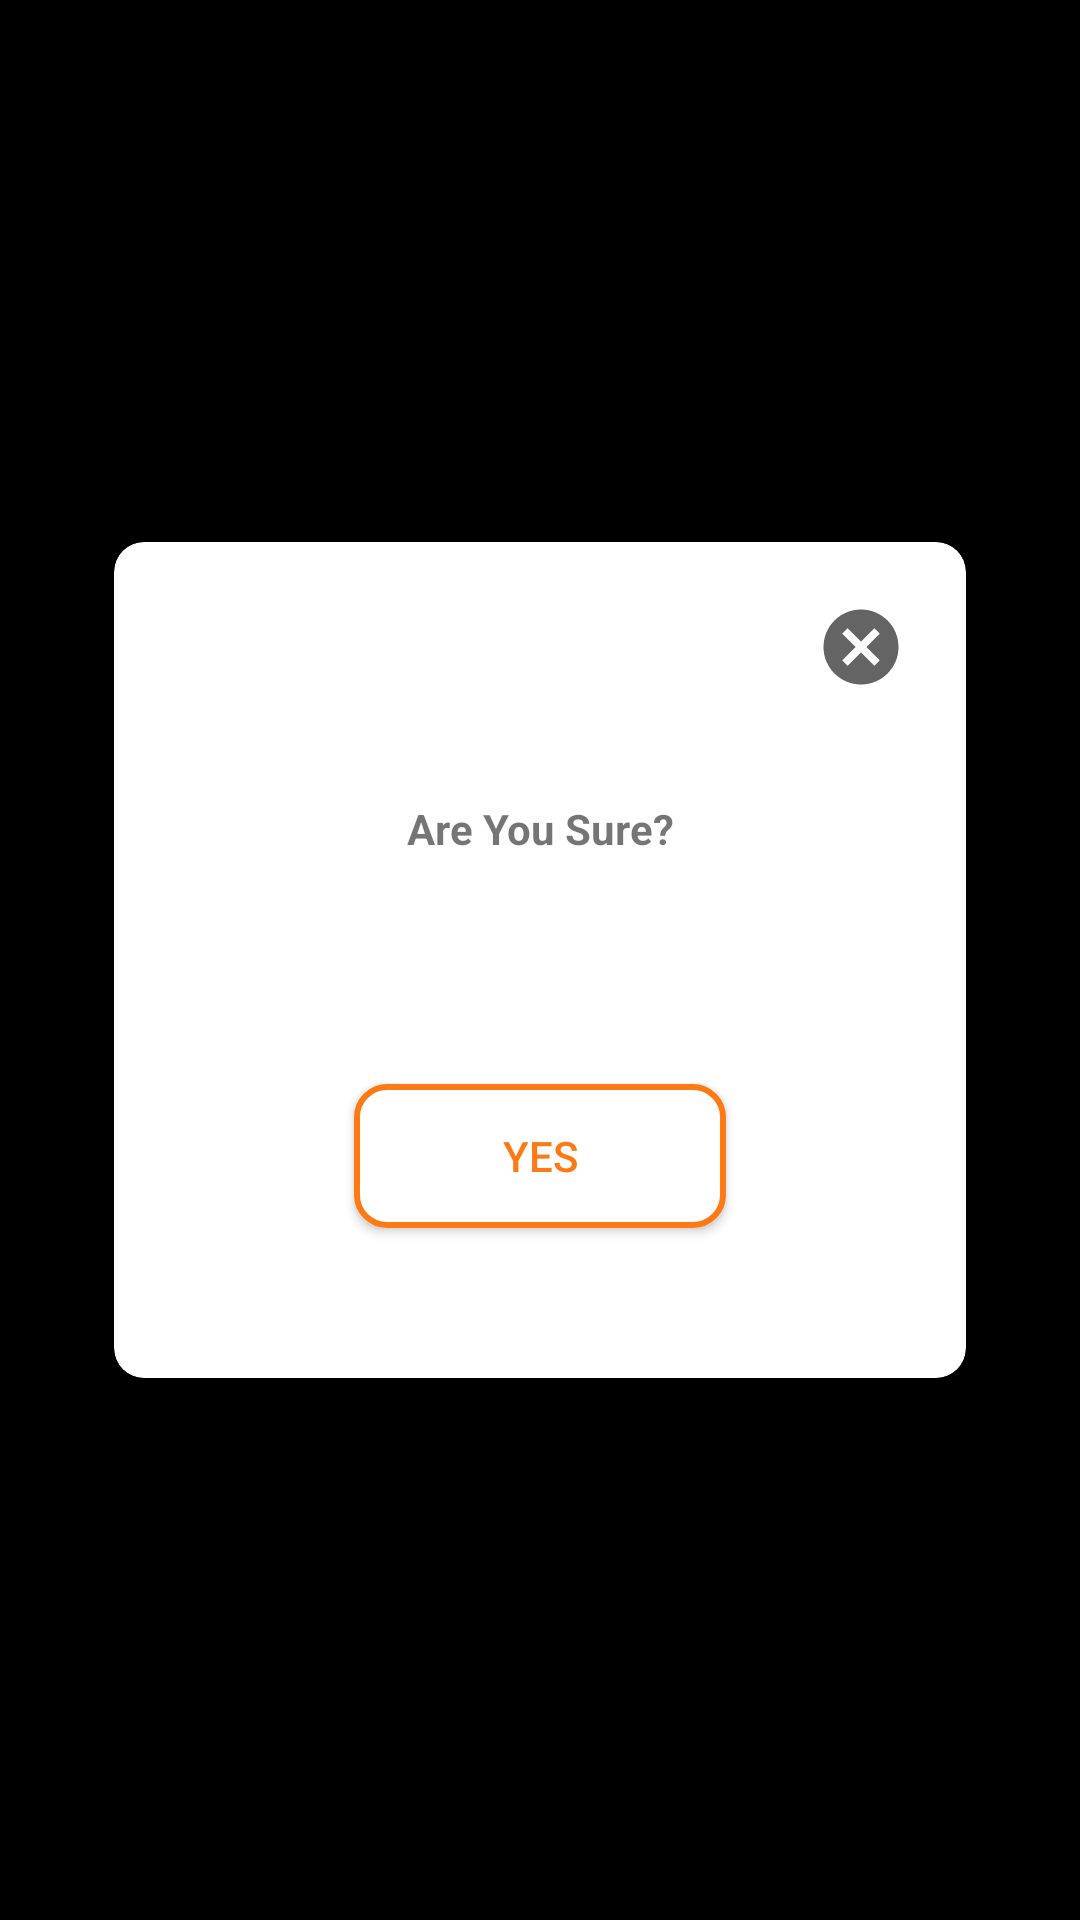

Locate icon controls on the screen. Image size 1080x1920, boxes as (x1,y1,x2,y2).
Cancel Button: (823,609,899,685)
